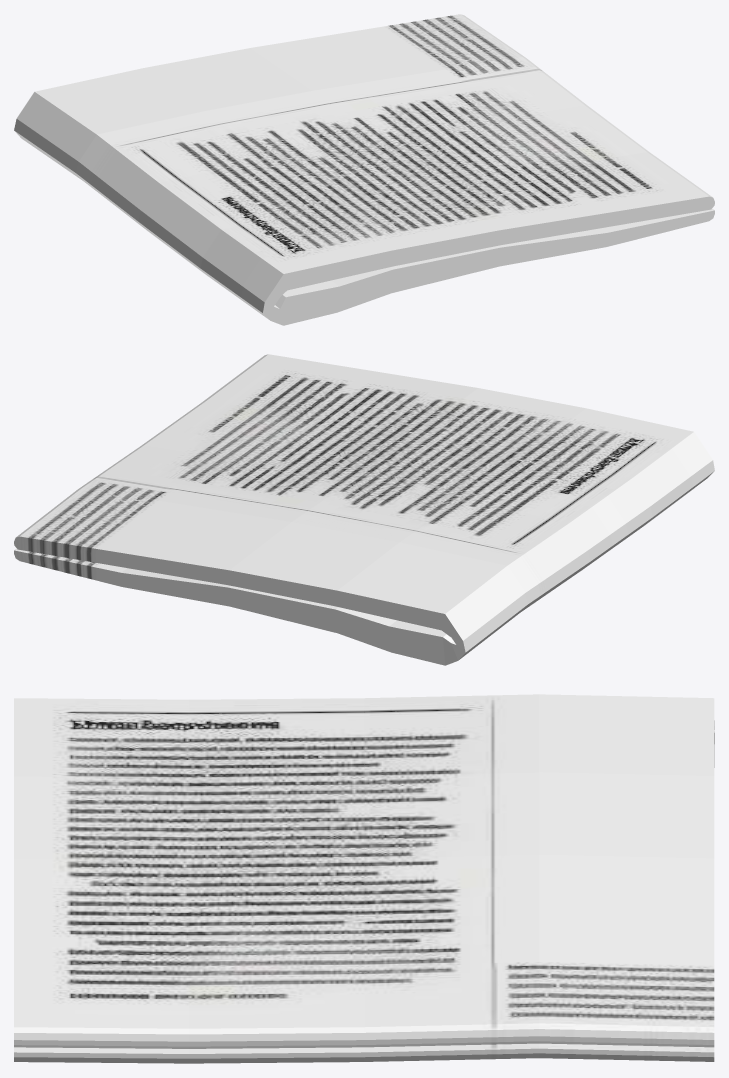
The model's file is news_paper.glb.
3 views of the same model, one above another, from view 1: azimuth 30°, elevation 25°; view 2: azimuth 150°, elevation 25°; view 3: azimuth 270°, elevation 25° (orthographic). The views are drawn at different scales.
Visible parts, largest first — view 1: NewsPaper; view 2: NewsPaper; view 3: NewsPaper.
Boxes of the visible parts, <box> form: NewsPaper: <box>14,14,714,325</box>; NewsPaper: <box>14,354,714,665</box>; NewsPaper: <box>14,694,714,1063</box>.
Size of the model in its own units: 0.4086 by 0.0481 by 0.3903.
Materials: 1 (1 with a texture image).
